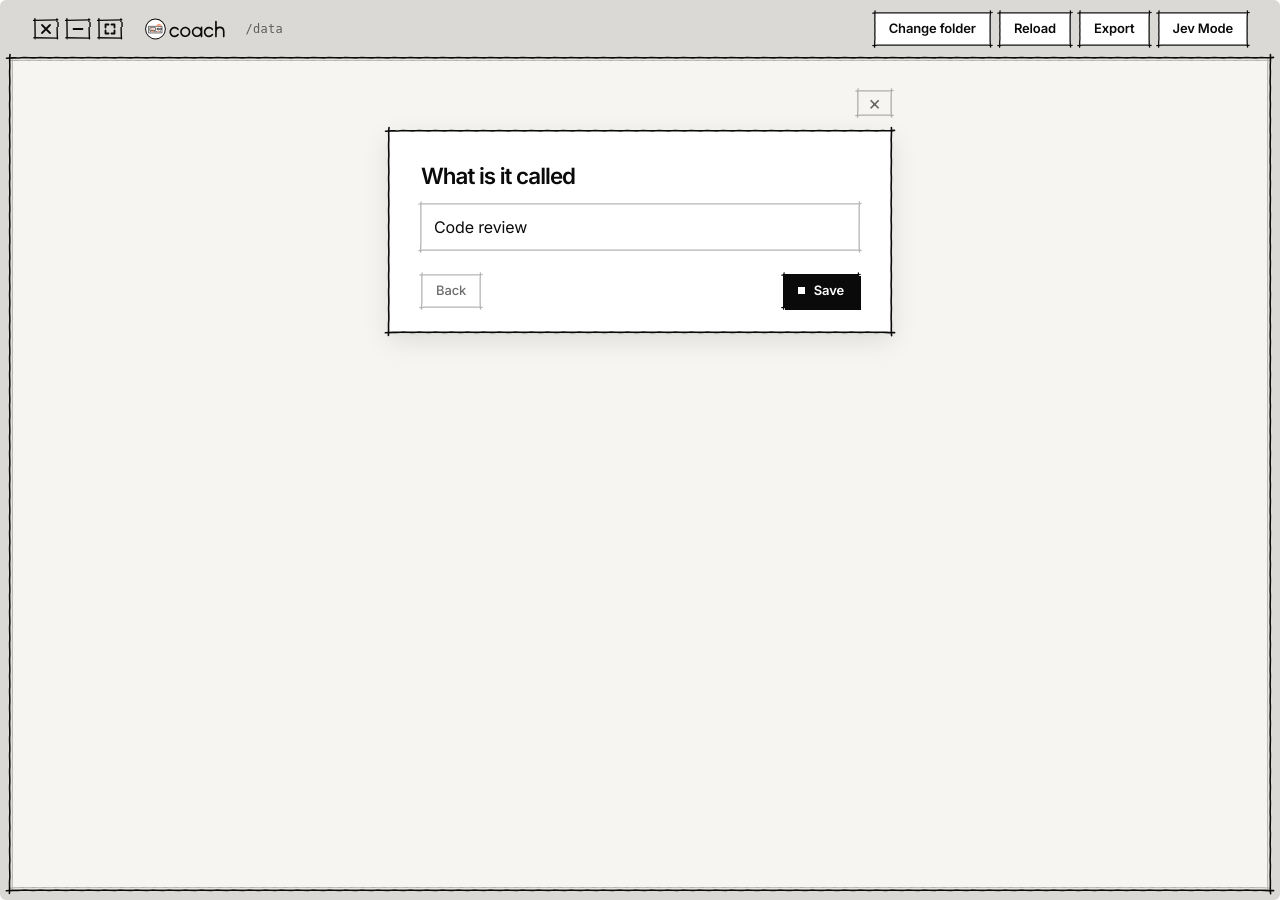
BadgeDetail › Use theirs leaves the file on disk as it is
This screenshot has width=1280, height=900.
Step 1. Type " mine" into the field named "Name" → (640, 227), box [421,204,859,250]
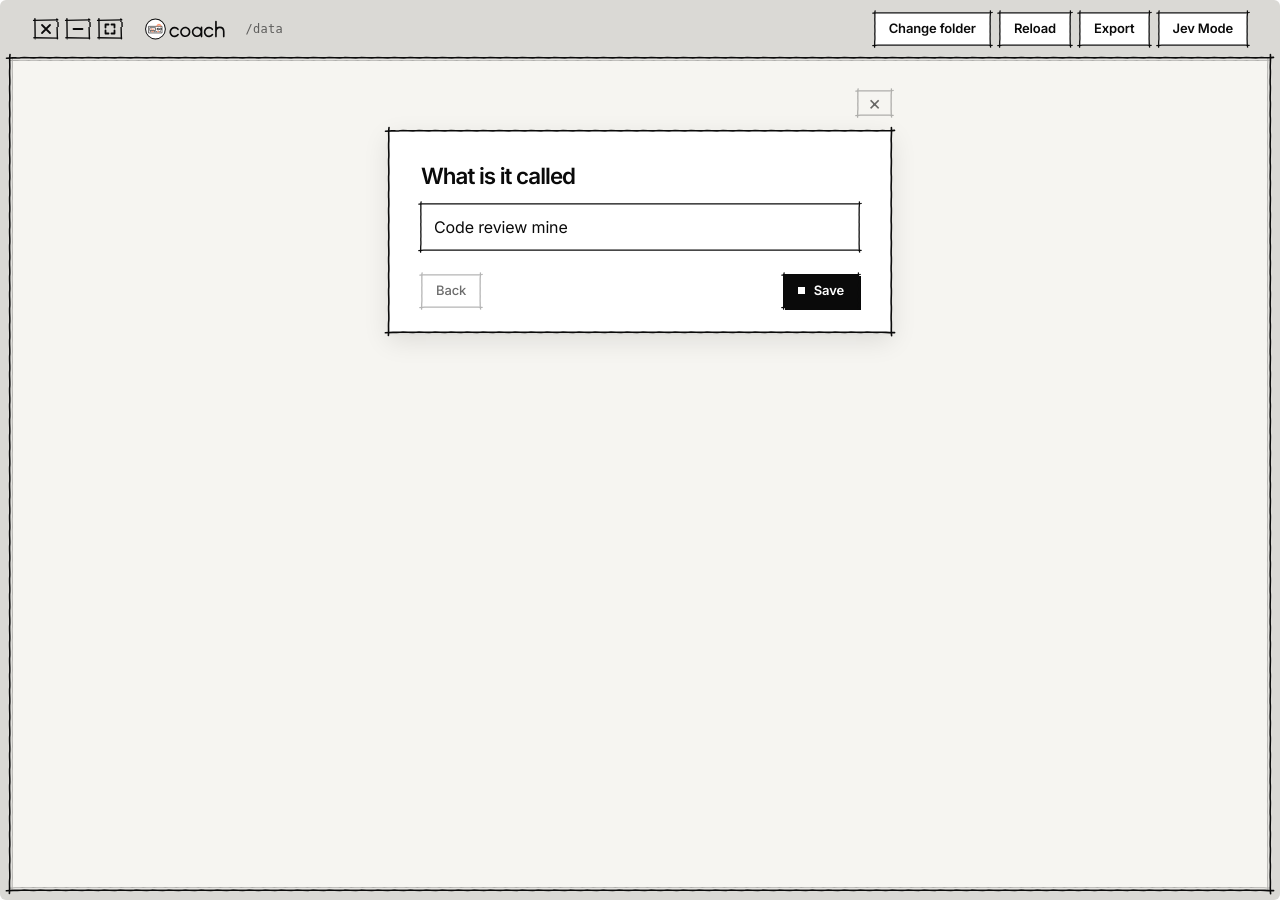
Step 2. Click the button "Save" → click(821, 291), box [783,274,859,308]
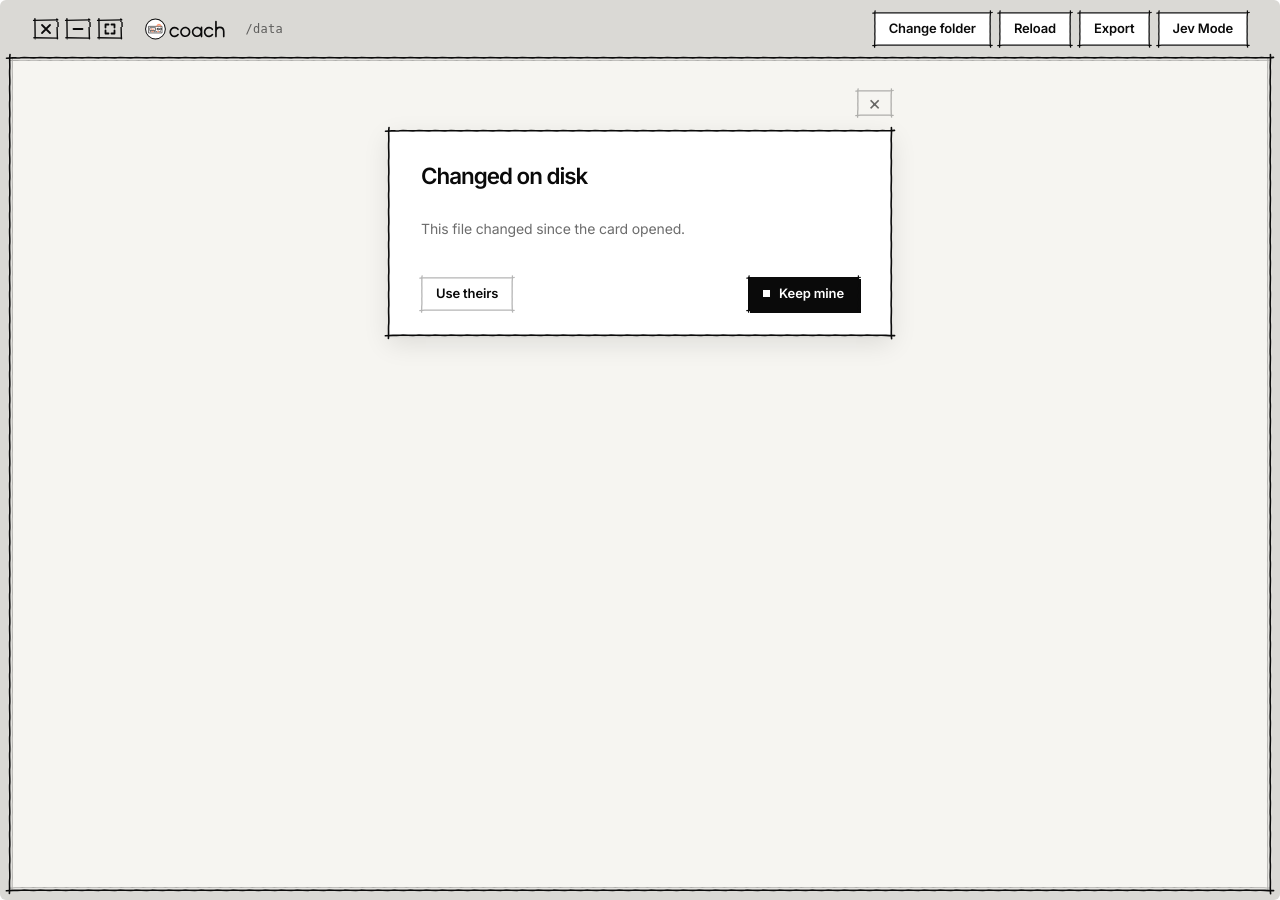
Step 3. Click the button "Use theirs" → click(467, 294), box [421,277,513,311]
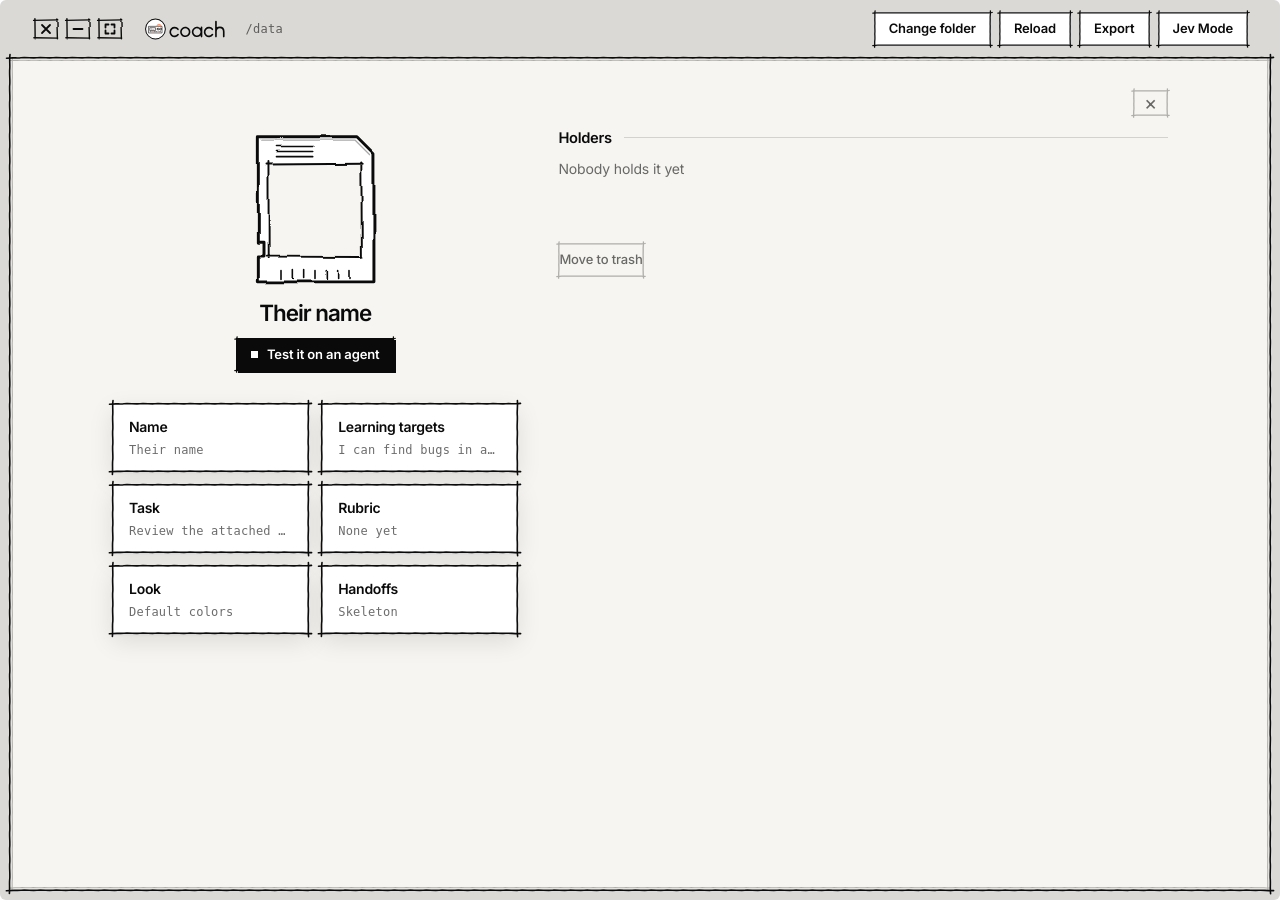
Expected: the heading "Their name" is shown, [259,300,371,326]
